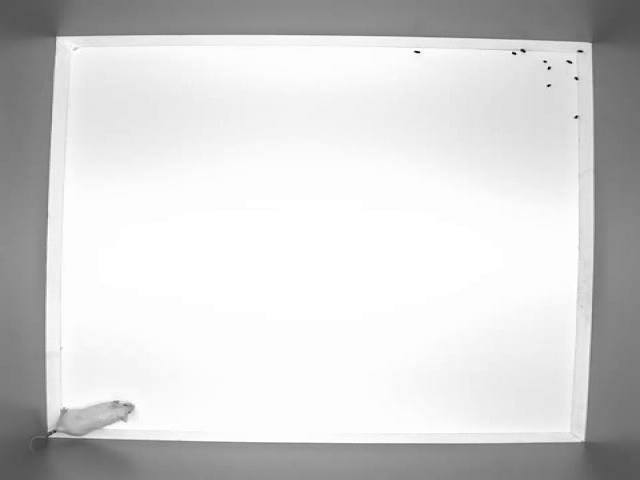Tikus: (42, 388, 147, 442)
